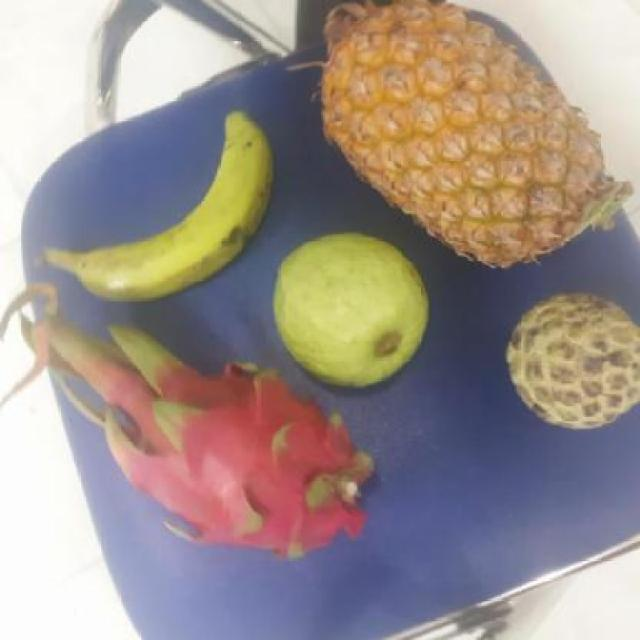dragon fruit: (113, 355, 370, 559)
guava: (265, 236, 430, 390)
pineapple: (315, 1, 607, 264)
sugar apple: (502, 293, 640, 430)
